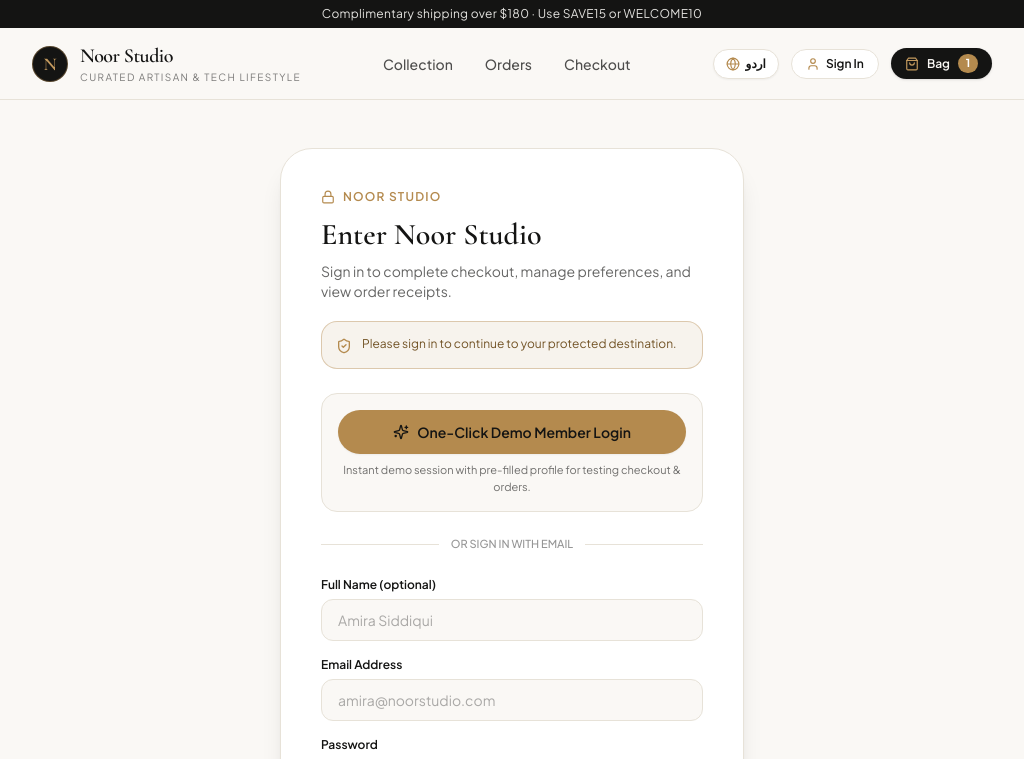
Test: Custom hook boundaries and persistence › protects checkout route, redirects back after demo login, and completes order flow
Expected: the heading "Enter Noor Studio" is shown, [321, 216, 542, 253]
Click One-Click Demo Member Login
Click the button "One-Click Demo Member Login".
click(512, 432)  # box [338, 410, 686, 454]
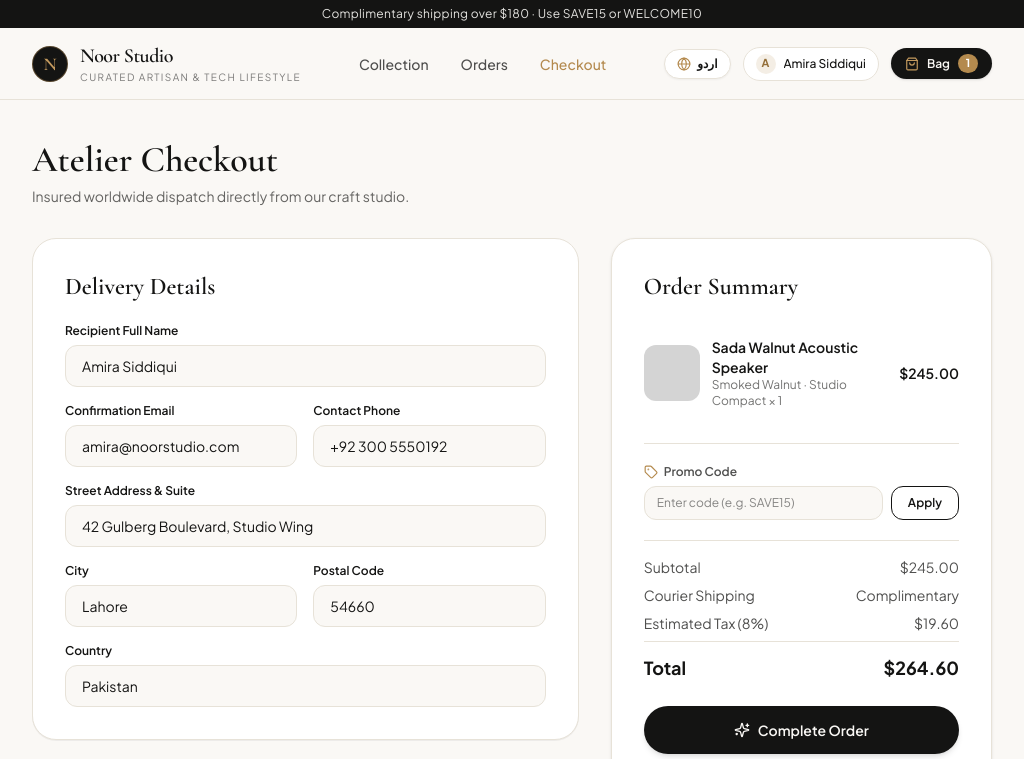
Now the heading "Atelier Checkout" is shown, box [32, 138, 278, 181]
Complete order
Click the button "Complete Order".
click(801, 730)  # box [644, 706, 959, 754]
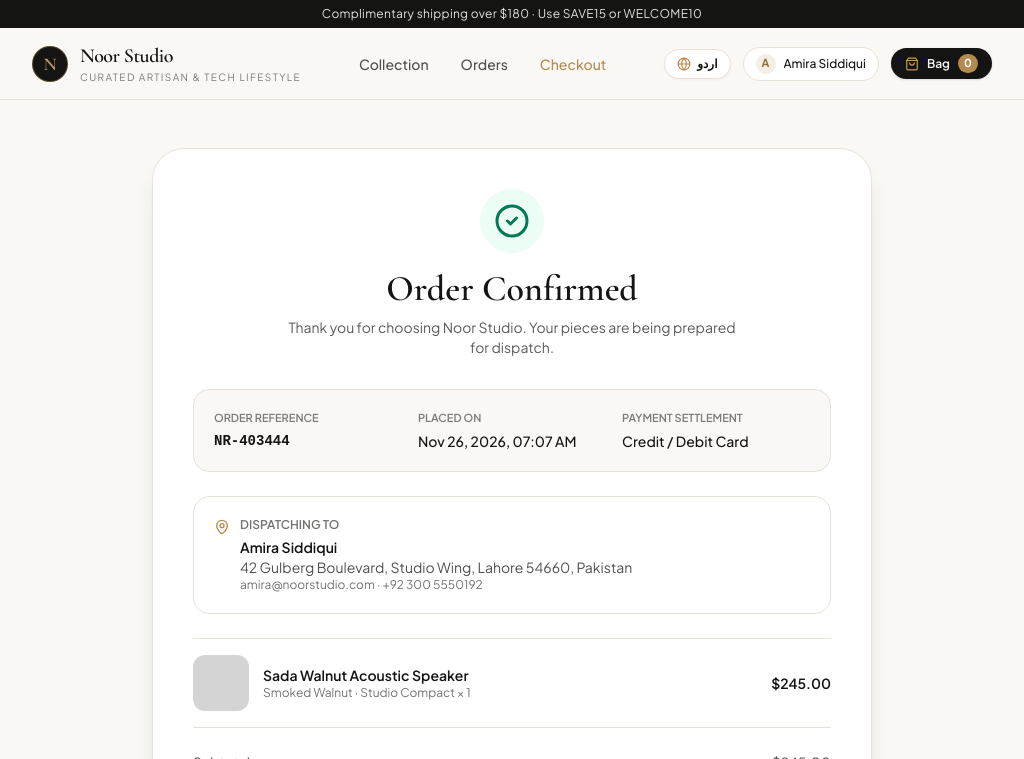
Now the heading "Order Confirmed" is shown, box [386, 269, 638, 309]
Now the button with aria-label "Bag (0)" is shown, box [891, 48, 992, 79]
